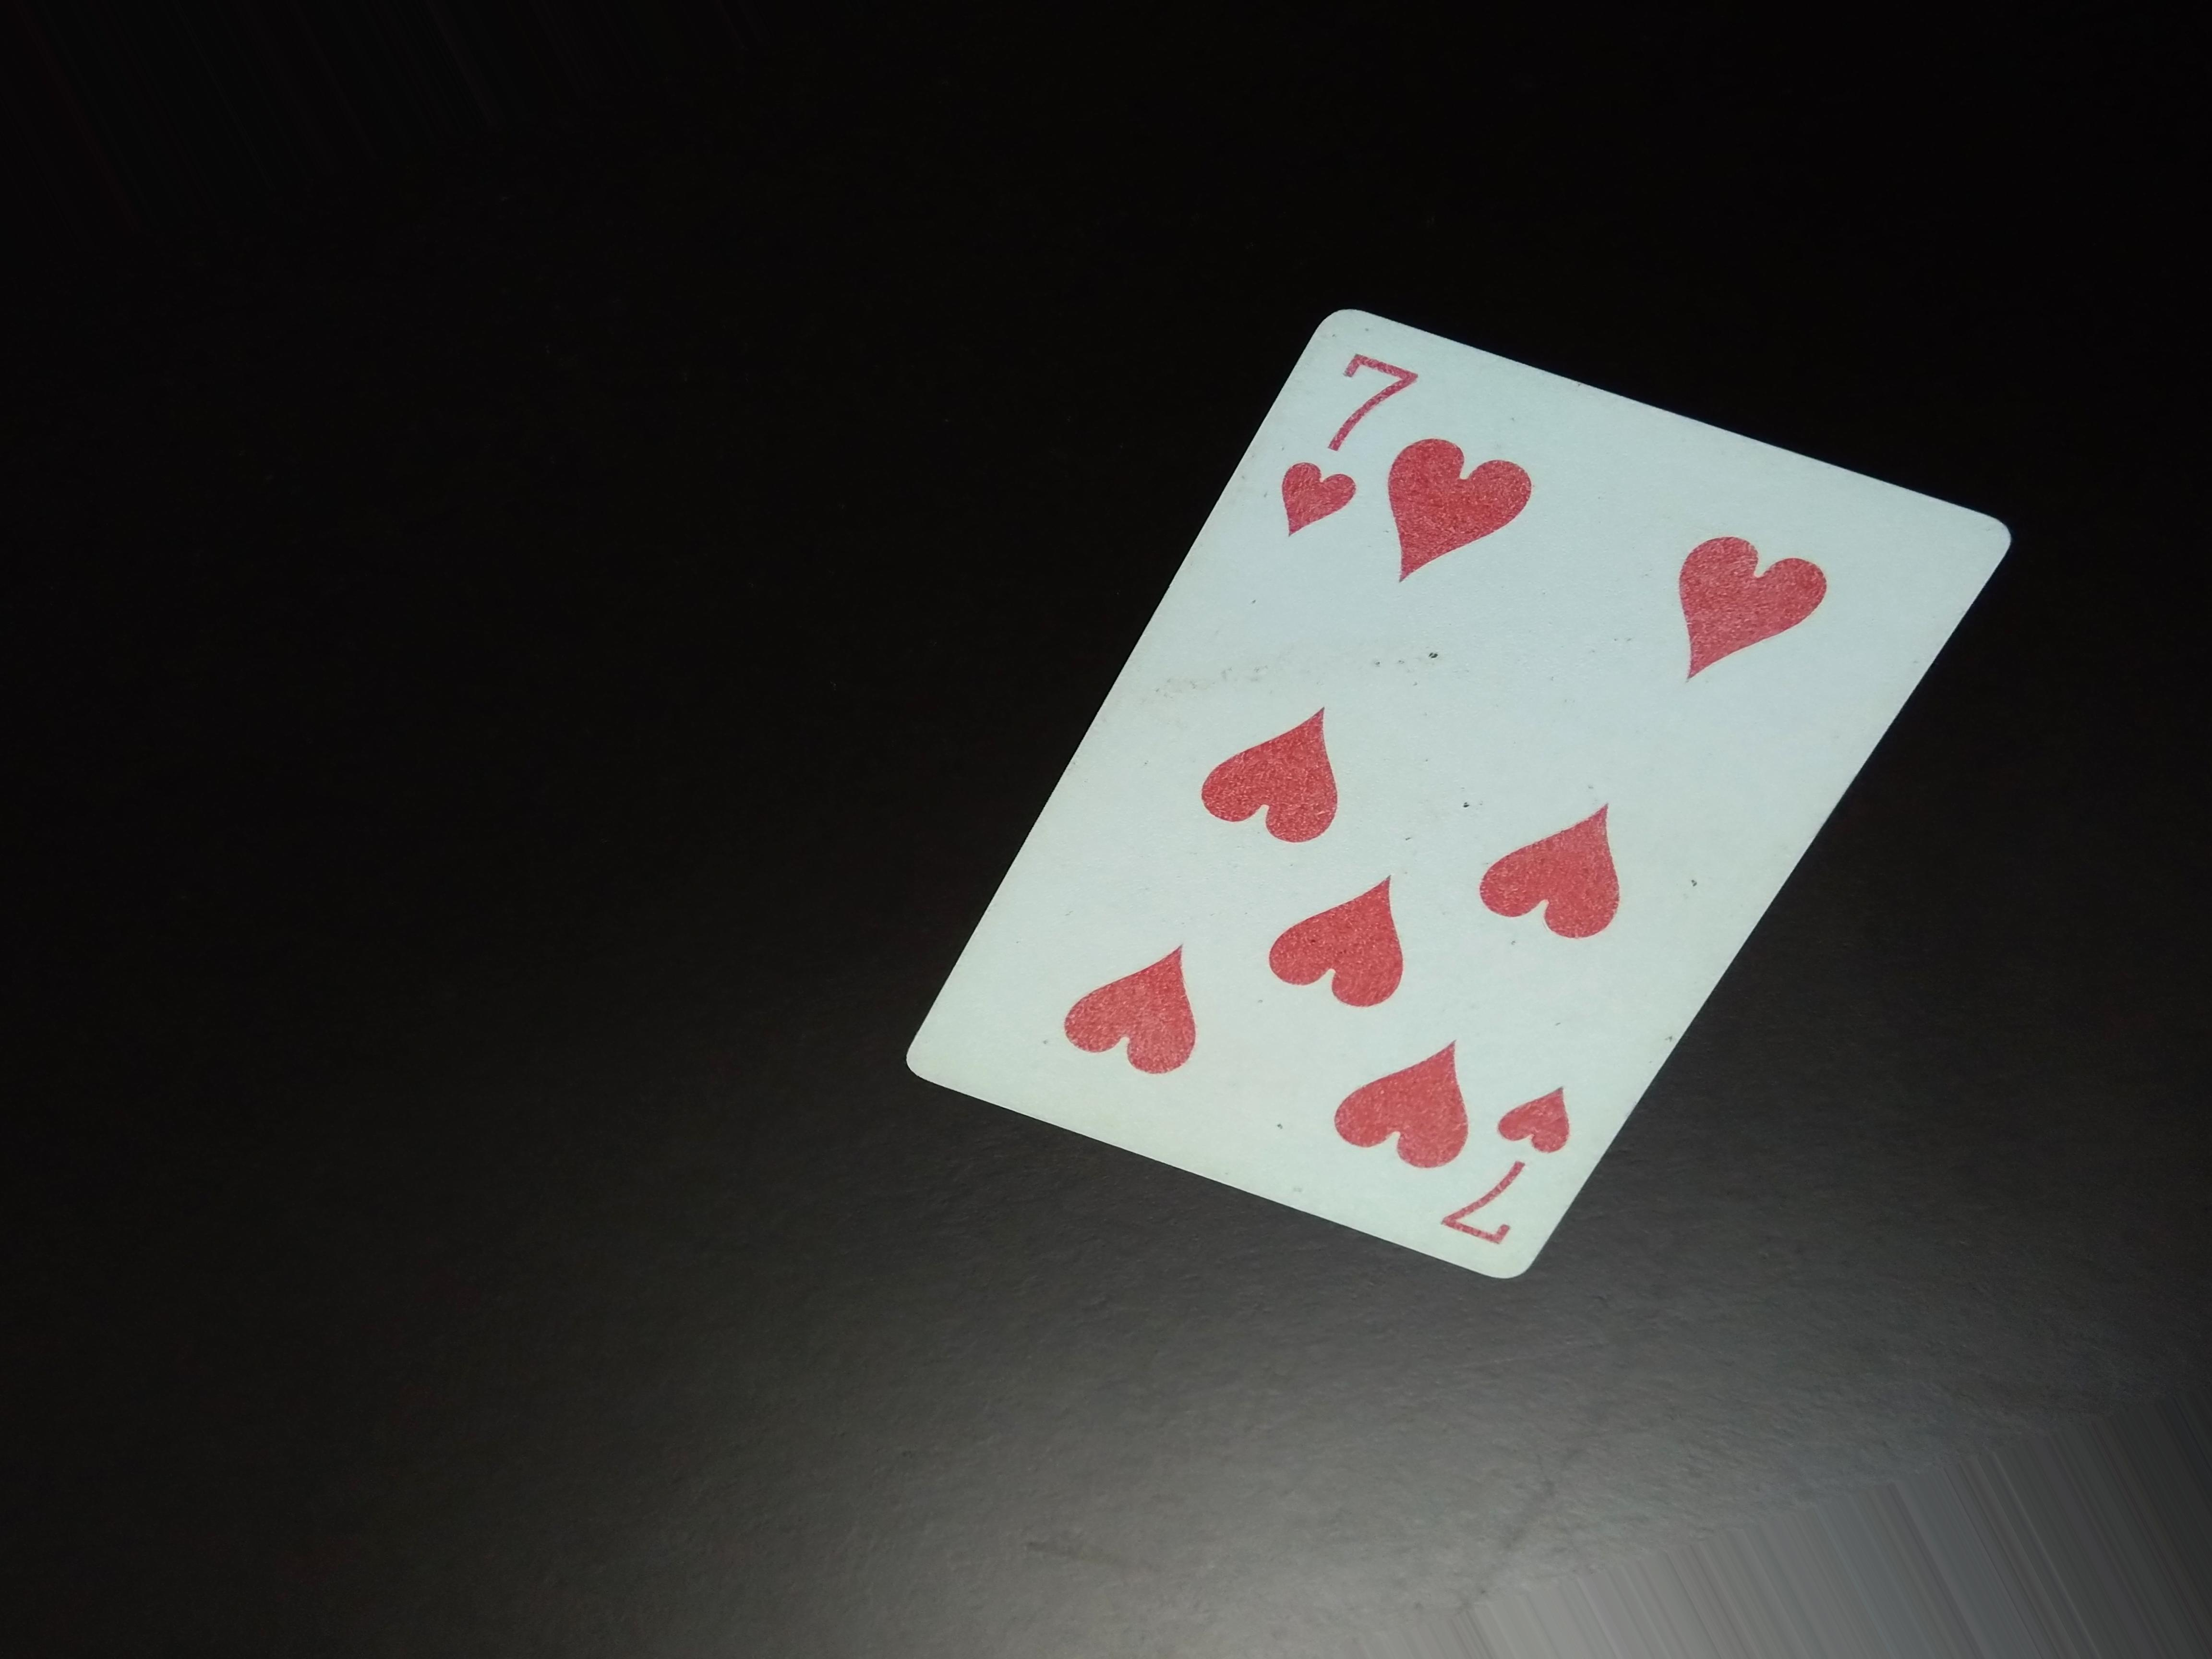7H: (1273, 326, 1426, 563)
